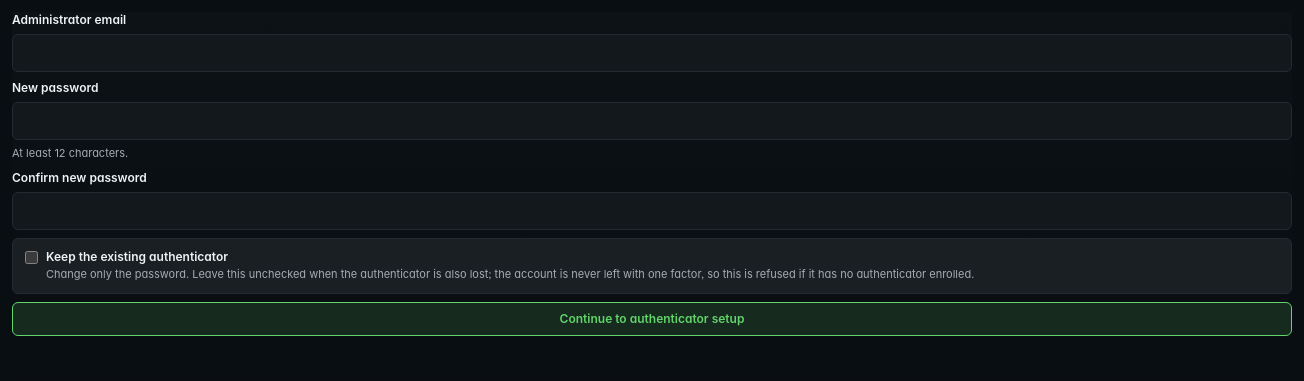
Test: AdministratorPasswordReset › refuses a human session token, which the route would reject anyway
Type "ops@example.com" into the field labelled "Administrator email" at (652, 53), box [12,34,1292,72]
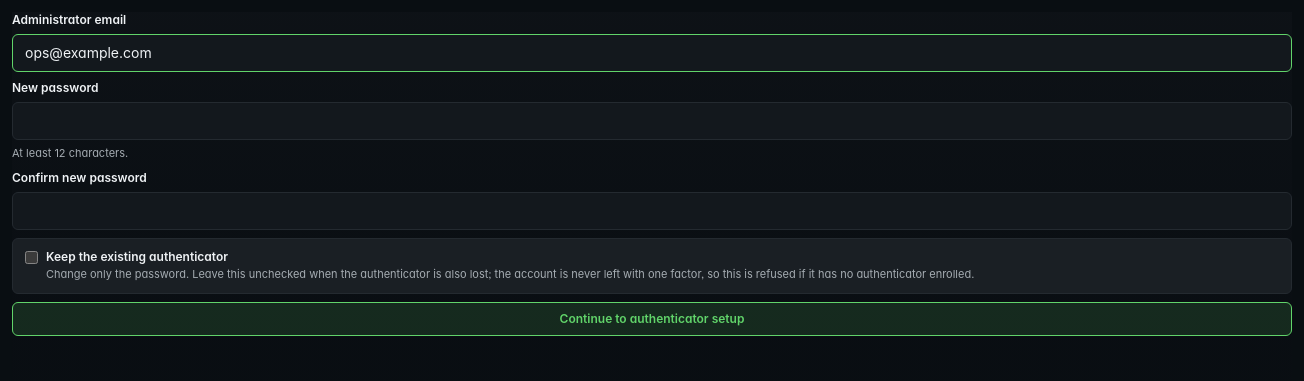
Type "correct horse battery staple" into the password field labelled "New password At least 12 characters." at (652, 121), box [12,102,1292,140]
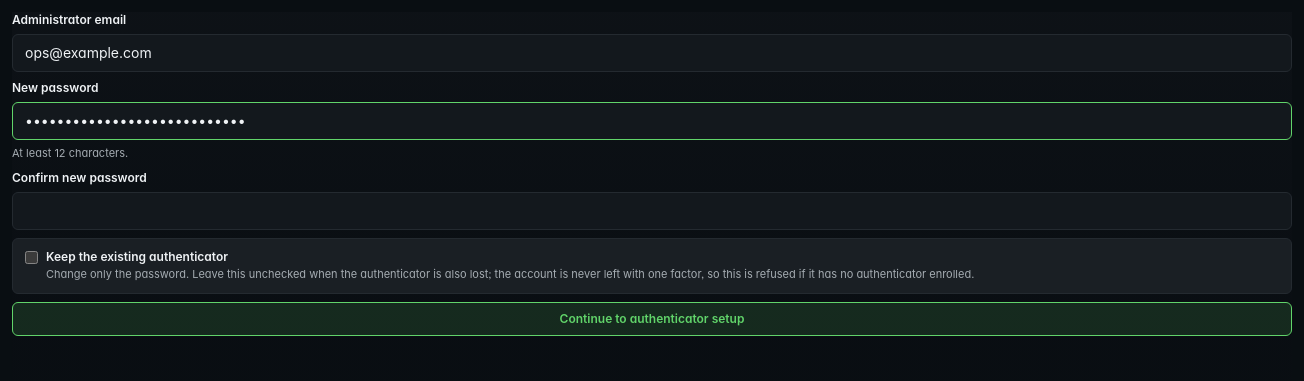
Type "correct horse battery staple" into the password field labelled "Confirm new password" at (652, 211), box [12,192,1292,230]
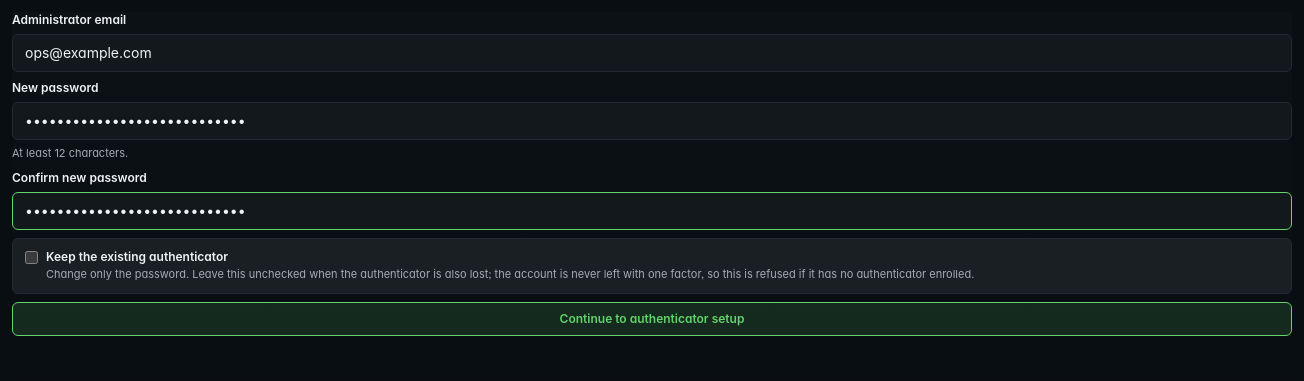
Click the checkbox labelled "Keep the existing authenticator" at (32, 257), box [25,251,38,264]
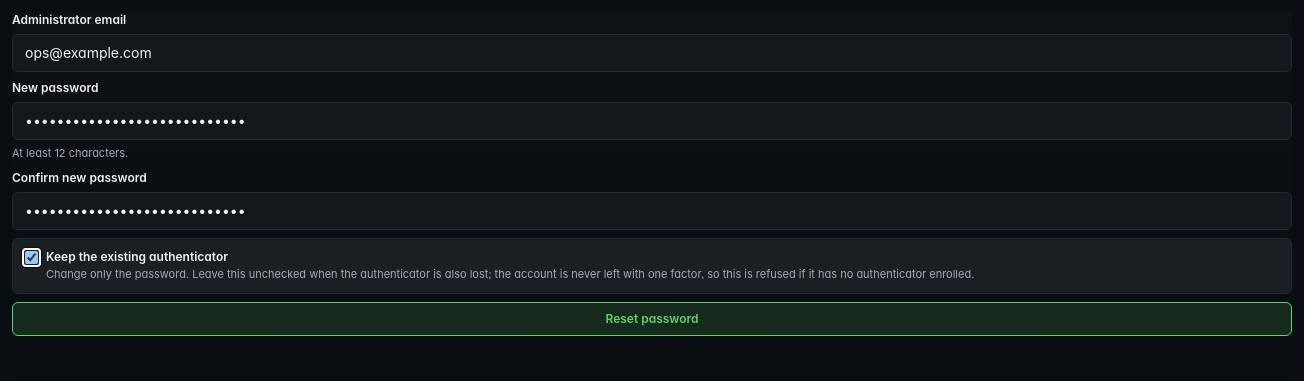
Click the button "Reset password" at (652, 319), box [12,302,1292,336]
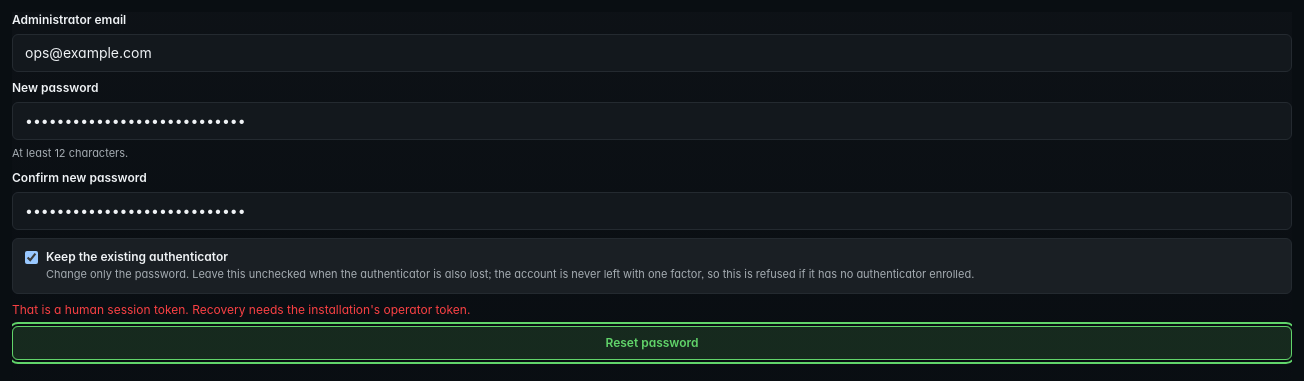
Now the text "needs the installation's operator token" is shown, box [12,302,470,317]
